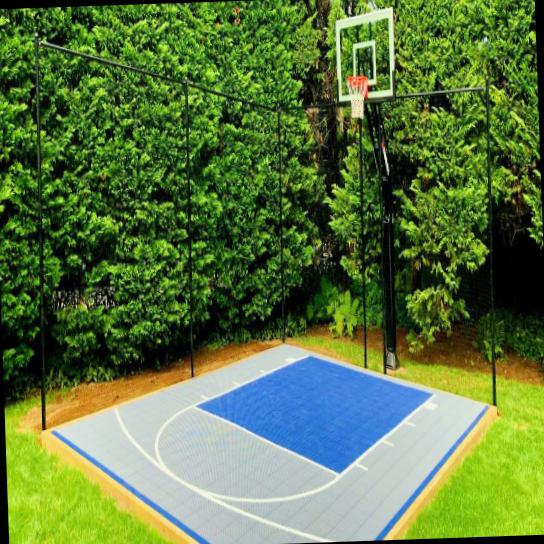basketball-hoop: (346, 74, 370, 122)
